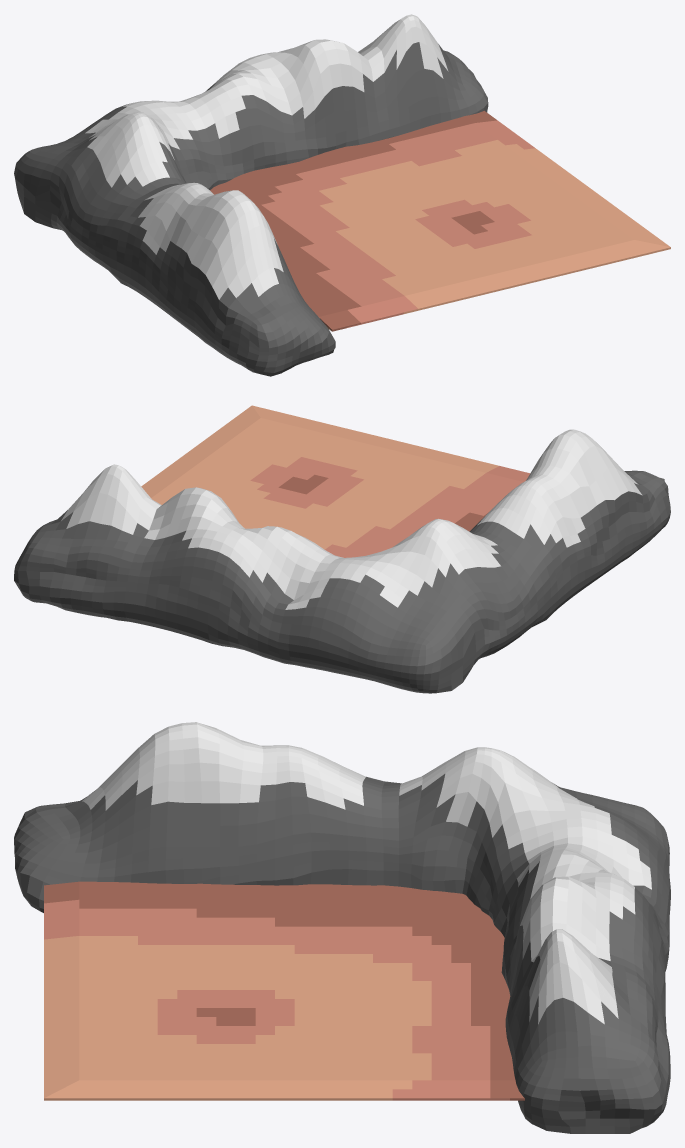
The model's file is terrain.fbx.
3 renders of one model, top to bottom at view 1: azimuth 30°, elevation 25°; view 2: azimuth 150°, elevation 25°; view 3: azimuth 270°, elevation 25°, orthographic. The views are drawn at different scales.
Parts seen in each view (by area): view 1: mountain, Ground; view 2: mountain, Ground; view 3: mountain, Ground.
Boxes of the visible parts, x1,y1,x2,y2 form: mountain: (14,14,488,376); Ground: (210,110,670,331); mountain: (14,429,670,693); Ground: (141,405,530,557); mountain: (14,722,670,1133); Ground: (44,881,524,1100).
Size of the model in its own units: 1966 by 572 by 1958.
